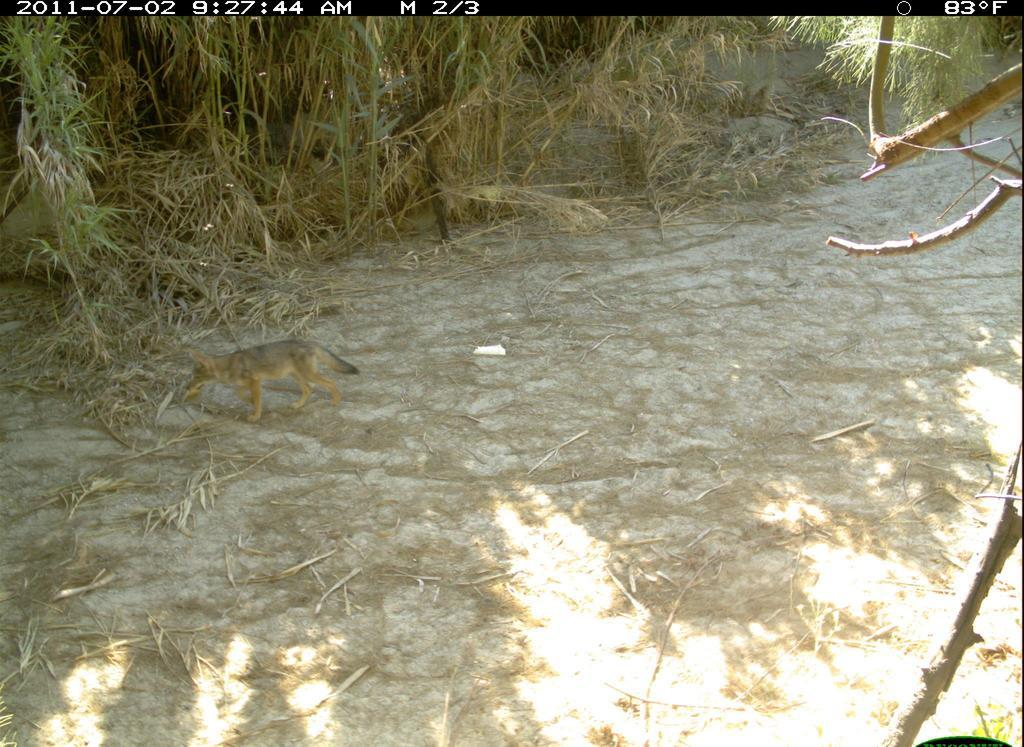coyote: (172, 329, 365, 431)
